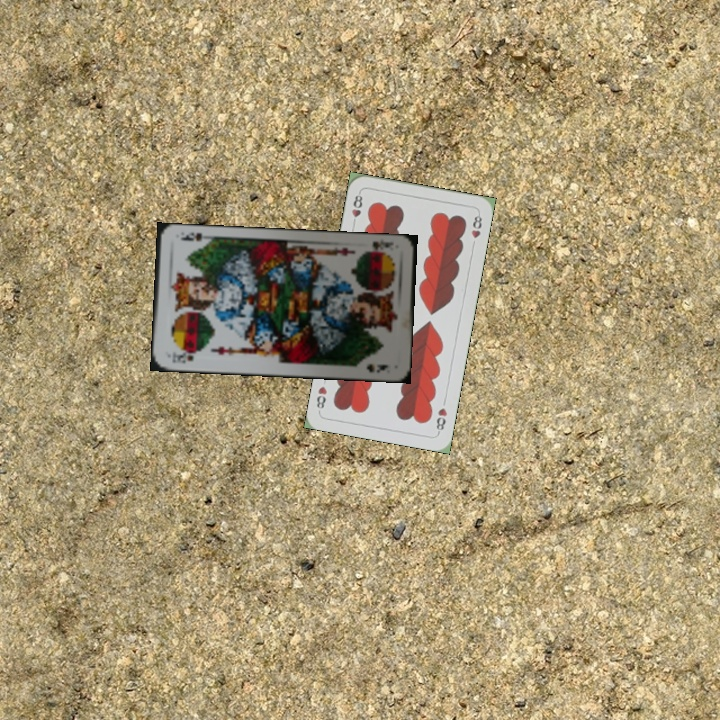H8: (348, 188, 365, 229), (432, 404, 450, 436)
SK: (360, 236, 396, 256), (168, 347, 198, 366)
